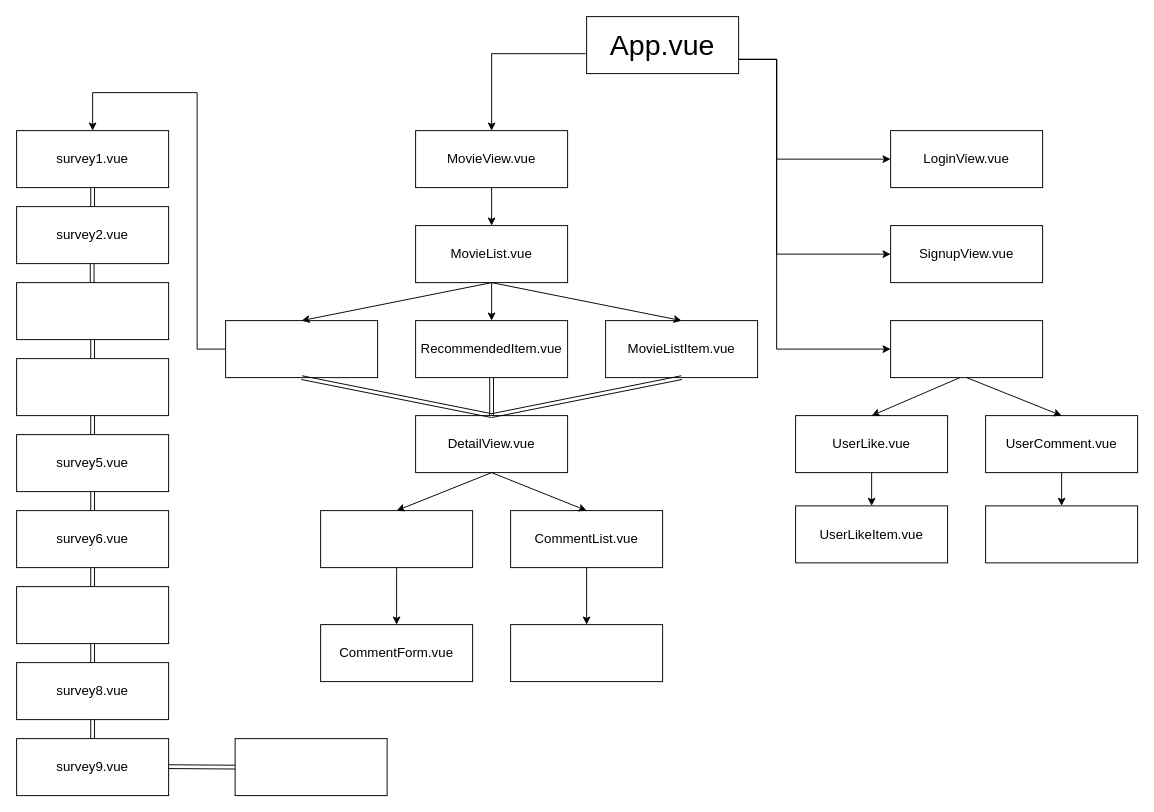
The diagram is 1154 pixels wide and 812 high, and some of its shapes have lost their labels. Each missing label, with the centre of its shape:
"ActorsList.vue" belongs at (x=396, y=539).
"CarouselItem.vue" belongs at (x=301, y=349).
"CommentListItem.vue" belongs at (x=586, y=653).
"MvtiResult.vue" belongs at (x=310, y=767).
"ProfileView.vue" belongs at (x=966, y=349).
"survey3.vue" belongs at (x=92, y=311).
"survey4.vue" belongs at (x=92, y=387).
"survey7.vue" belongs at (x=92, y=615).
"UserCommentItem.vue" belongs at (x=1061, y=534).
